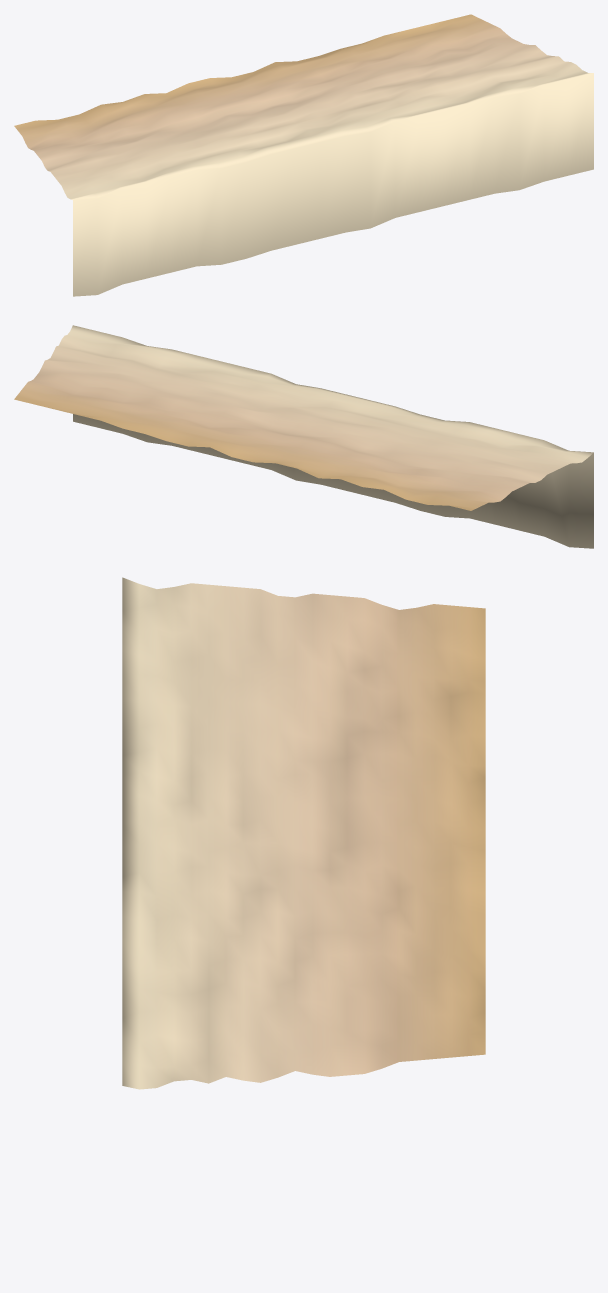
Rendered from FBX_Fondale01.fbx.
The picture shows the model from 3 angles, top to bottom: view 1: azimuth 30°, elevation 25°; view 2: azimuth 150°, elevation 25°; view 3: azimuth 270°, elevation 25°; orthographic projection. The views are drawn at different scales.
Parts seen in each view (by area): view 1: pareti_geo; view 2: pareti_geo; view 3: pareti_geo.
Part boxes in pixels (<box>): pareti_geo: <box>14,14,593,296</box>; pareti_geo: <box>14,325,593,548</box>; pareti_geo: <box>122,577,485,1089</box>.
Size of the model in its own units: 995 by 184 by 300.
Materials: 1 (1 with a texture image).
